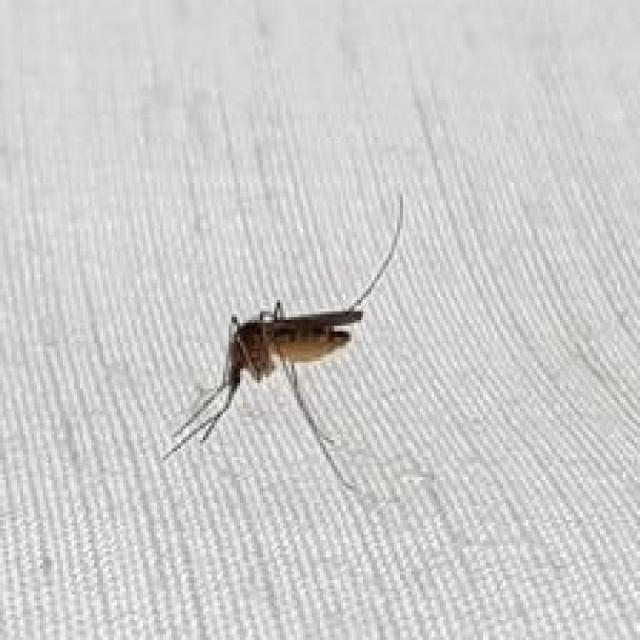Culex: (160, 190, 406, 493)
